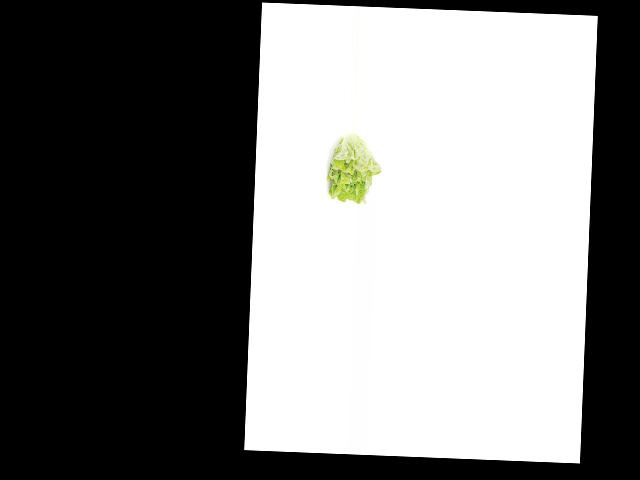lettuce: (322, 132, 381, 204)
